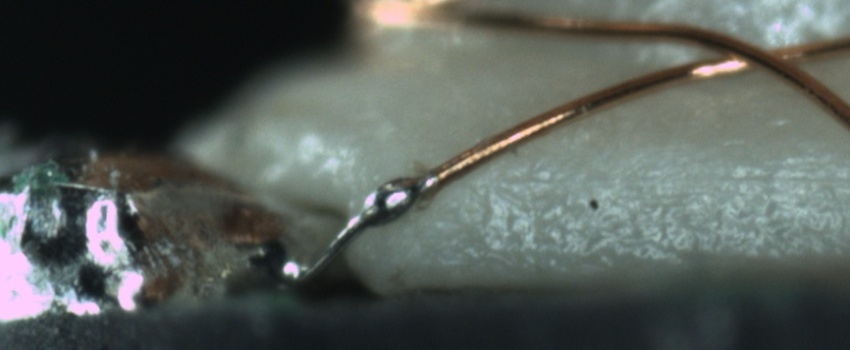CL: (694, 34, 820, 80)
DL: (448, 146, 850, 210)
TB: (359, 172, 425, 225)
TS: (293, 169, 439, 286)
TTCW: (282, 149, 473, 286)
